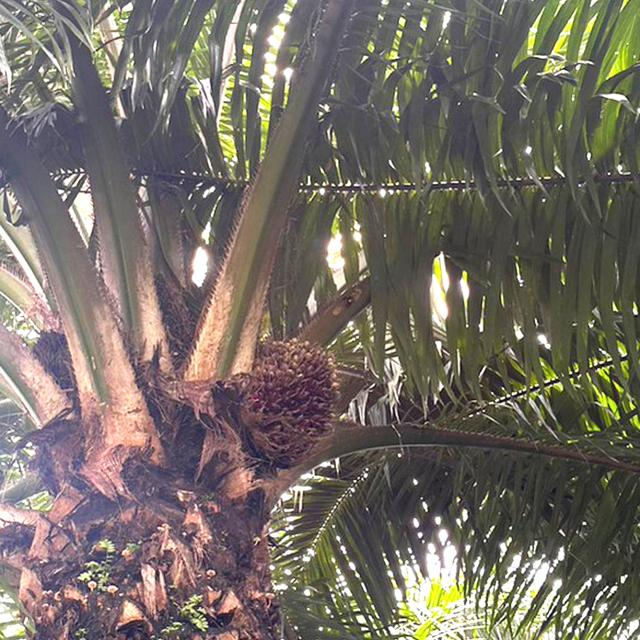ripe: (234, 329, 350, 476)
